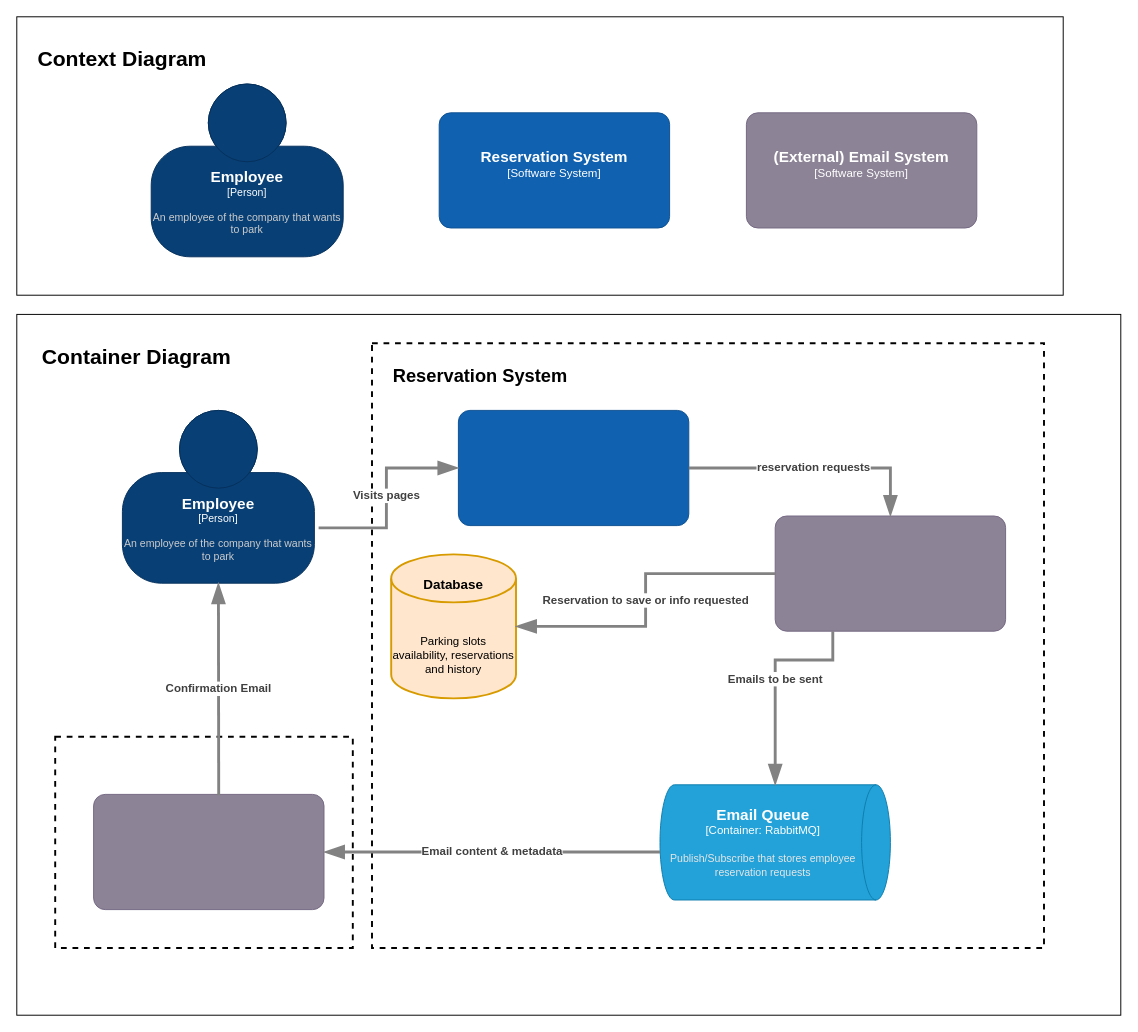
Image size: 1138x1032. Some labels were removed from this diagram. The shapes that lost their labels are listed below. From the top down, each one's box as (x1, y1, x2, y2) in pixels, then its label:
(457, 409, 689, 526): Web Interface [Software System] Description of software system.
(774, 515, 1006, 631): Backend Service [Software System] Web server & Application logic
(93, 793, 324, 910): Email Service [Software System] Cloud based Email service provider
